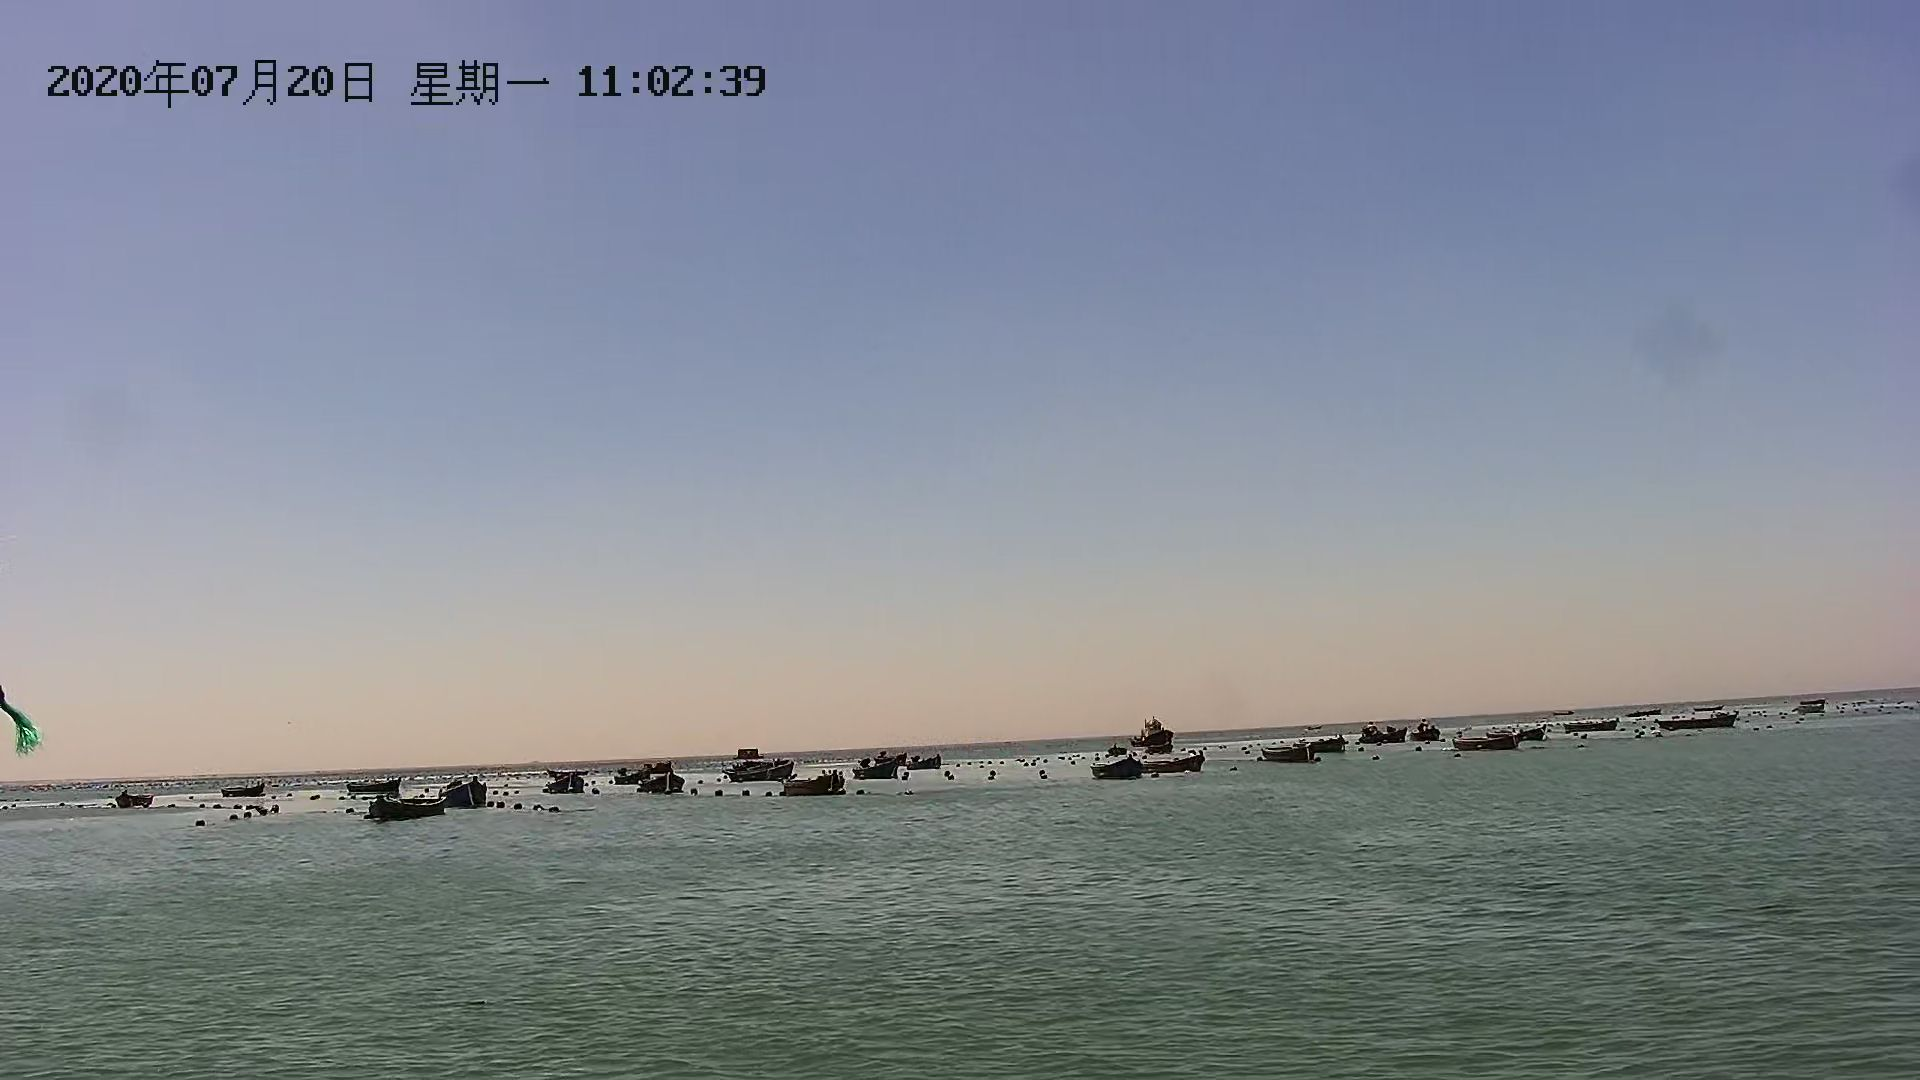boat: (1650, 704, 1742, 741), (363, 789, 447, 825), (778, 770, 858, 803), (533, 765, 599, 802), (1342, 720, 1415, 753), (1445, 731, 1531, 756), (1087, 753, 1153, 785), (1137, 752, 1209, 778), (214, 773, 277, 802), (713, 761, 800, 782), (1257, 738, 1320, 767), (632, 774, 690, 802), (1782, 694, 1840, 721), (847, 760, 909, 785), (112, 783, 160, 815), (1557, 717, 1625, 738), (347, 777, 407, 799)
ship: (1127, 712, 1185, 756)
